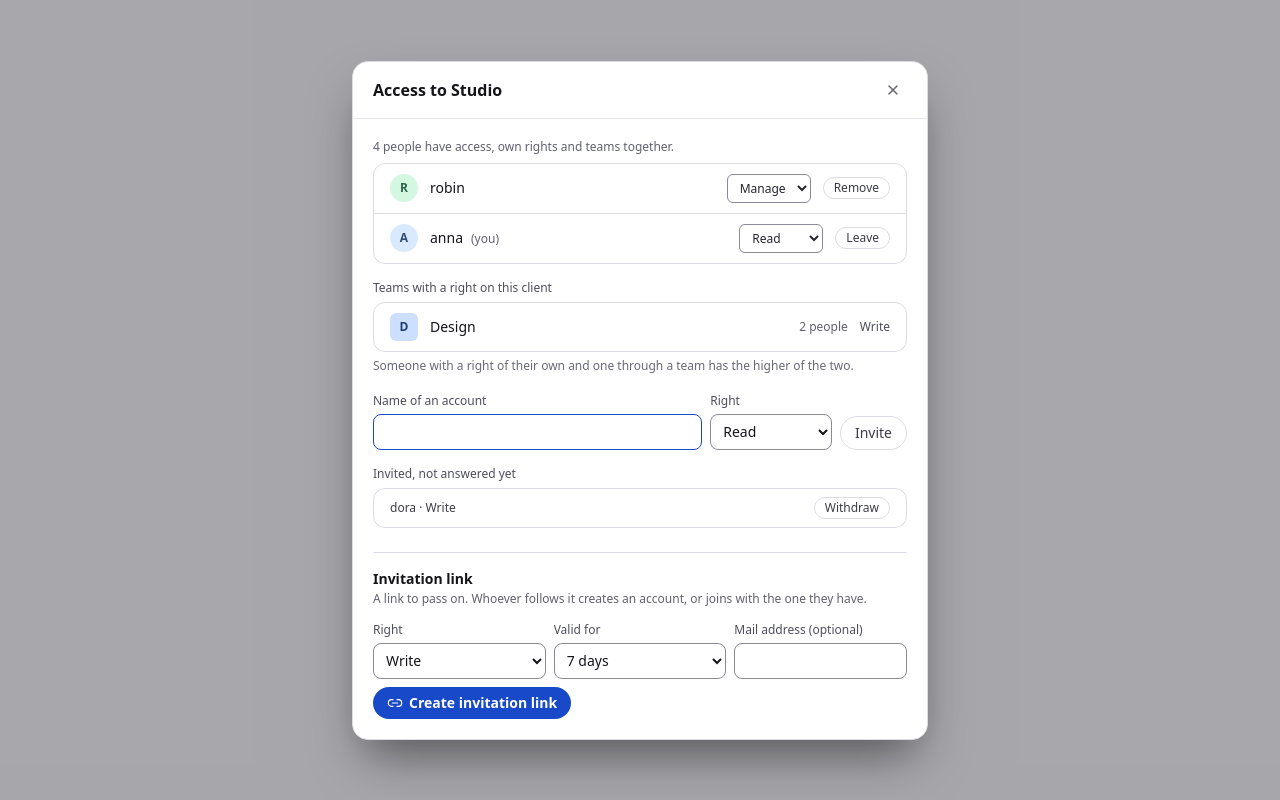
it: the access dialog › lets a manager see and withdraw an invitation by name
The width and height of the screenshot is (1280, 800).
Check: the list with test id "space-asked" shows "dora", box [390,498,416,516]
Click the button "Withdraw" at (852, 508), box [814,496,890,518]
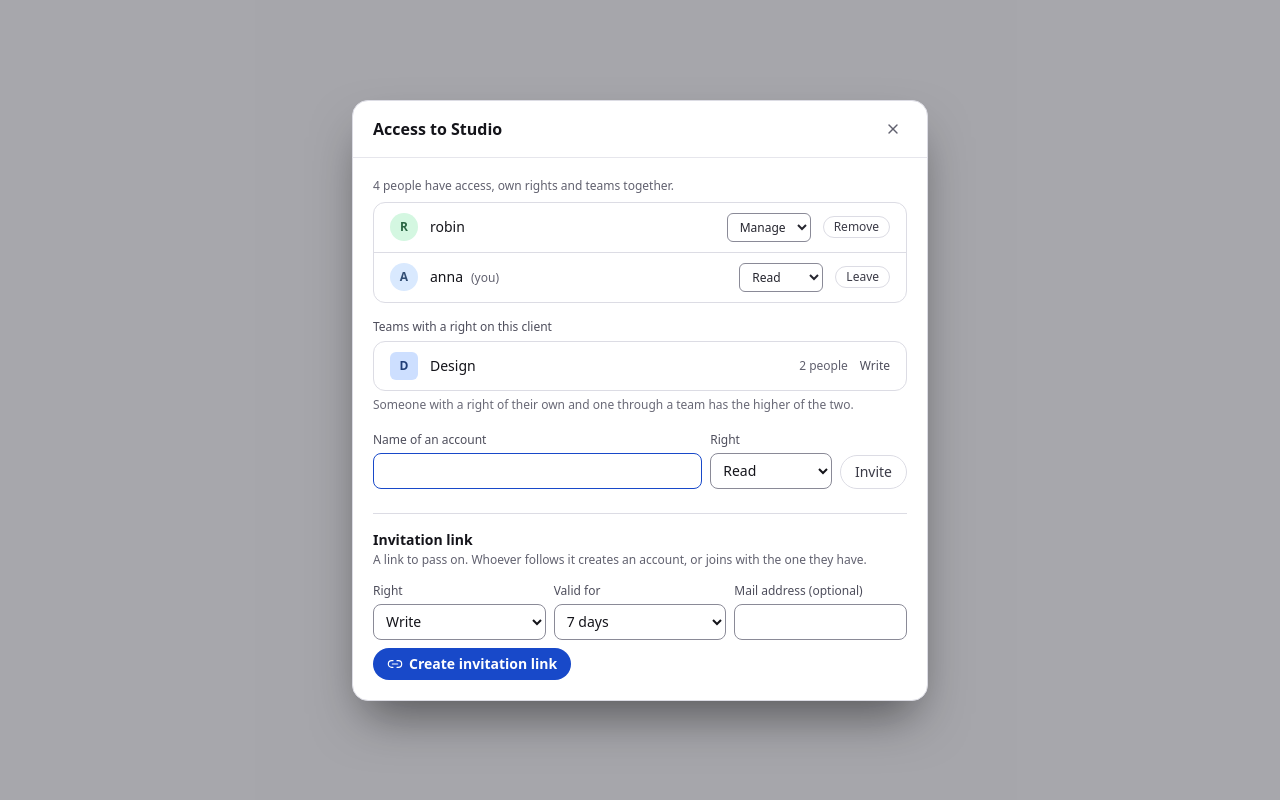
Check: the list with test id "space-asked" is gone
